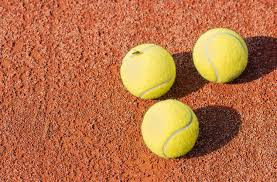tennis_ball: (141, 99, 198, 156), (193, 27, 248, 85), (121, 44, 175, 99)
